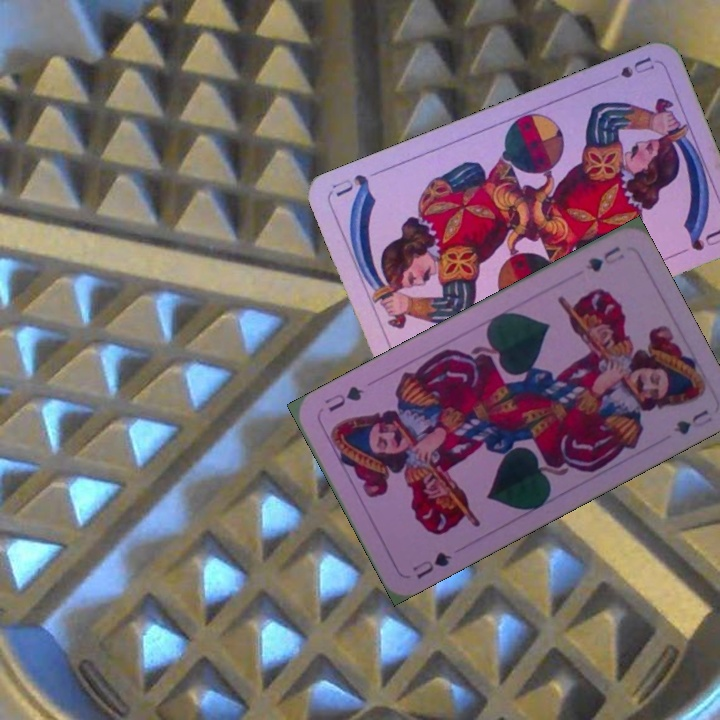GU: (408, 548, 454, 582), (581, 242, 627, 275)
SU: (599, 52, 657, 86)
